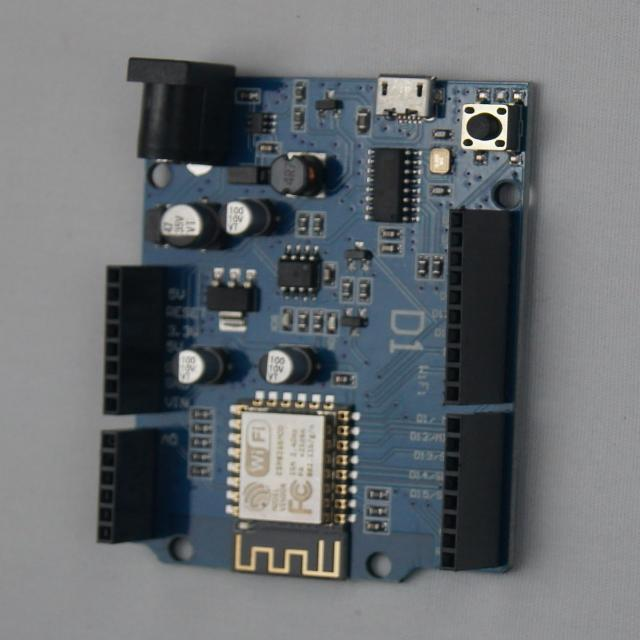Arduino Uno WiFi Shield: (99, 59, 535, 583)
